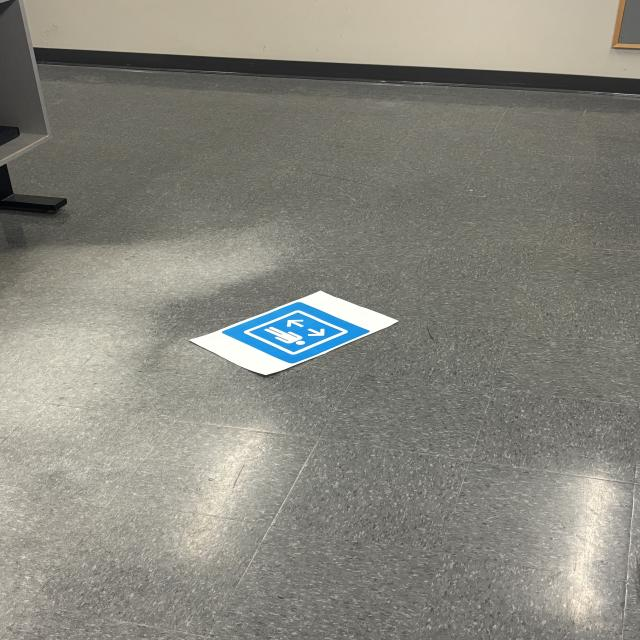elevator: (226, 301, 375, 366)
